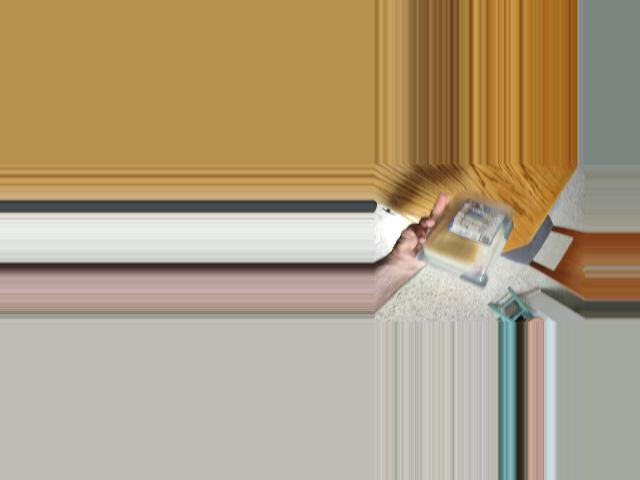cheese: (440, 196, 513, 287)
